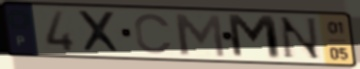4: (42, 8, 77, 54)
C: (132, 12, 175, 56)
M: (225, 12, 286, 62), (171, 12, 229, 60)
N: (277, 16, 325, 62)
X: (74, 9, 125, 55)
